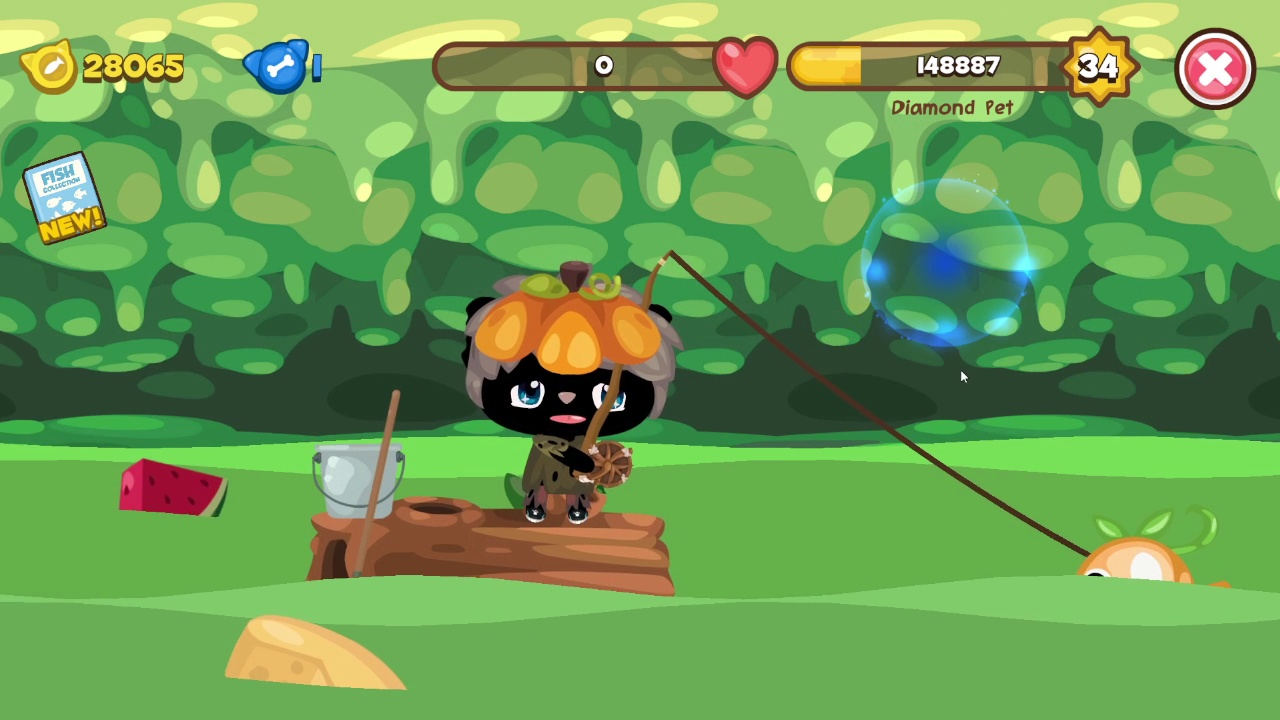point: (860, 175, 1033, 352)
